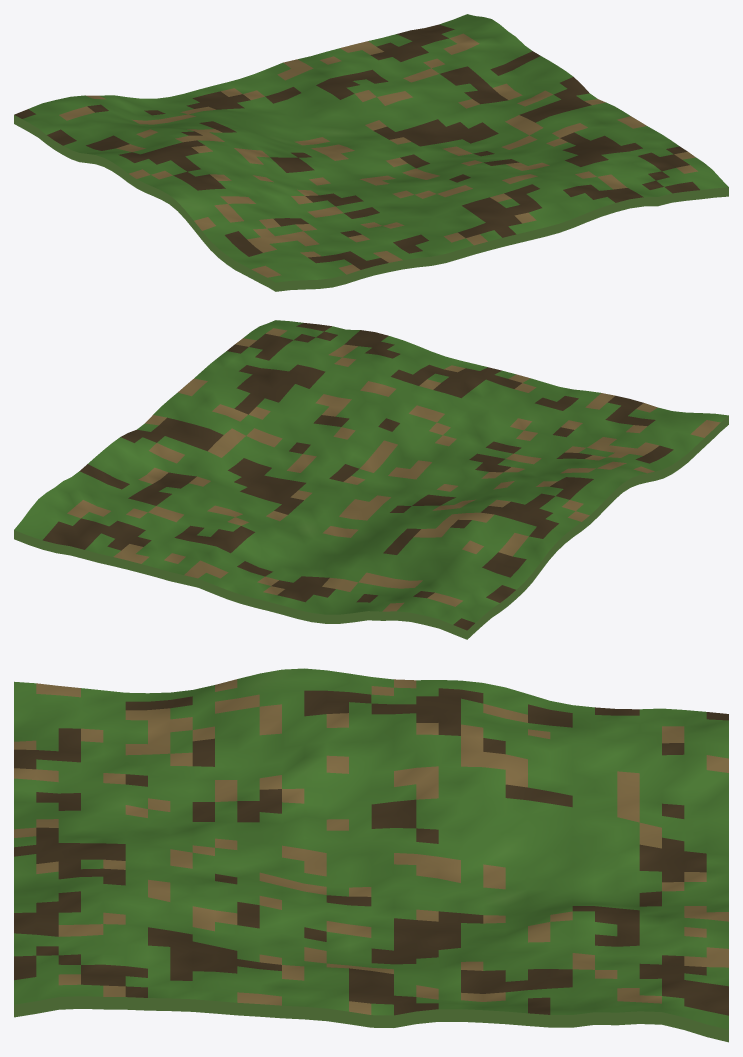
The model's file is chunk_0_2_lod1.glb.
3 renders of one model, top to bottom at view 1: azimuth 30°, elevation 25°; view 2: azimuth 150°, elevation 25°; view 3: azimuth 270°, elevation 25°, orthographic. The views are drawn at different scales.
Visible parts, largest first — view 1: Surface_Grass, Surface_Mud, Surface_Dirt, Skirt; view 2: Surface_Grass, Surface_Mud, Surface_Dirt, Skirt; view 3: Surface_Grass, Surface_Mud, Surface_Dirt, Skirt.
Boxes of the visible parts, box(x1,y1,x2,y2) form: Surface_Grass: box(22, 14, 728, 282); Surface_Mud: box(14, 24, 699, 269); Surface_Dirt: box(59, 33, 697, 277); Skirt: box(14, 115, 728, 291); Surface_Grass: box(14, 320, 728, 624); Surface_Mud: box(42, 323, 673, 630); Surface_Dirt: box(67, 328, 720, 611); Skirt: box(14, 416, 728, 639); Surface_Grass: box(14, 668, 728, 1029); Surface_Mud: box(14, 688, 728, 1015); Surface_Dirt: box(14, 679, 728, 1014); Skirt: box(14, 996, 728, 1042).
Size of the model in its own units: 256 by 34.08 by 256.
